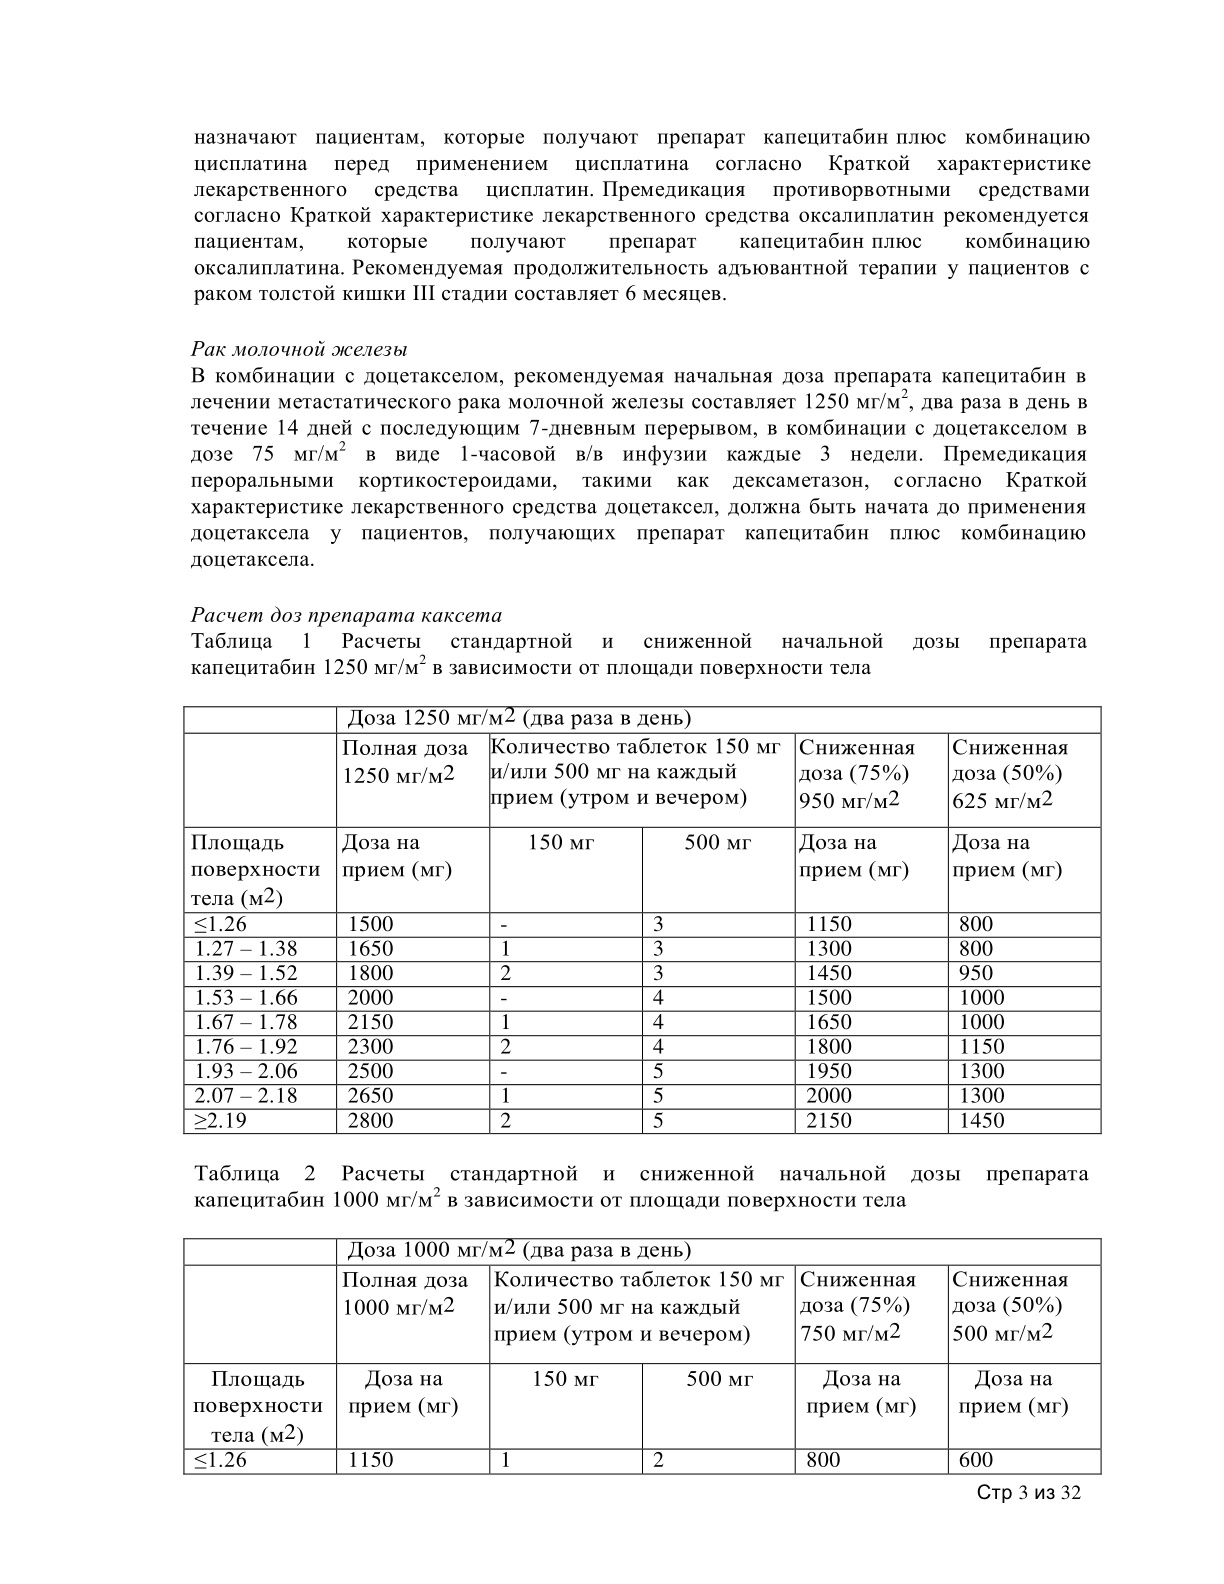merged_cells: (181, 706, 1104, 1137), (181, 1237, 1104, 1476)
